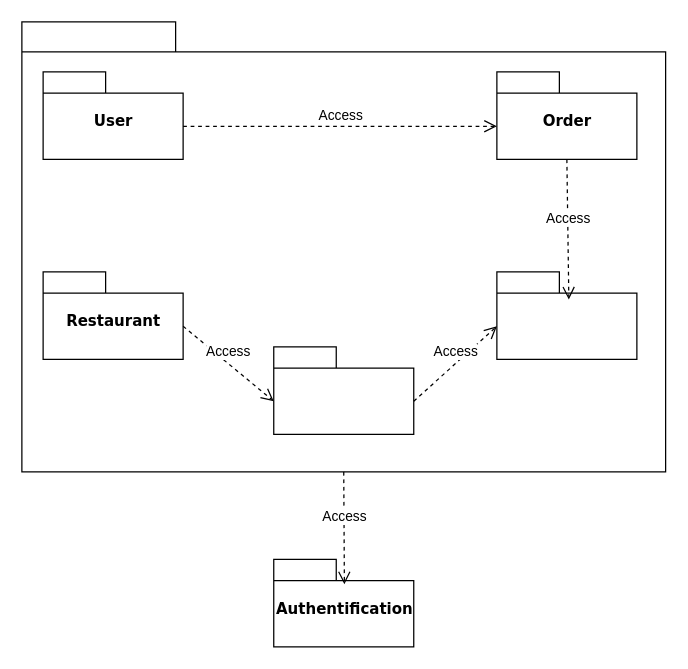
The diagram is 688 pixels wide and 669 high, and some of its shapes have lost their labels. Each missing label, with the centre of its shape:
"Category" goes at [343,390].
"Item" goes at [566,315].
